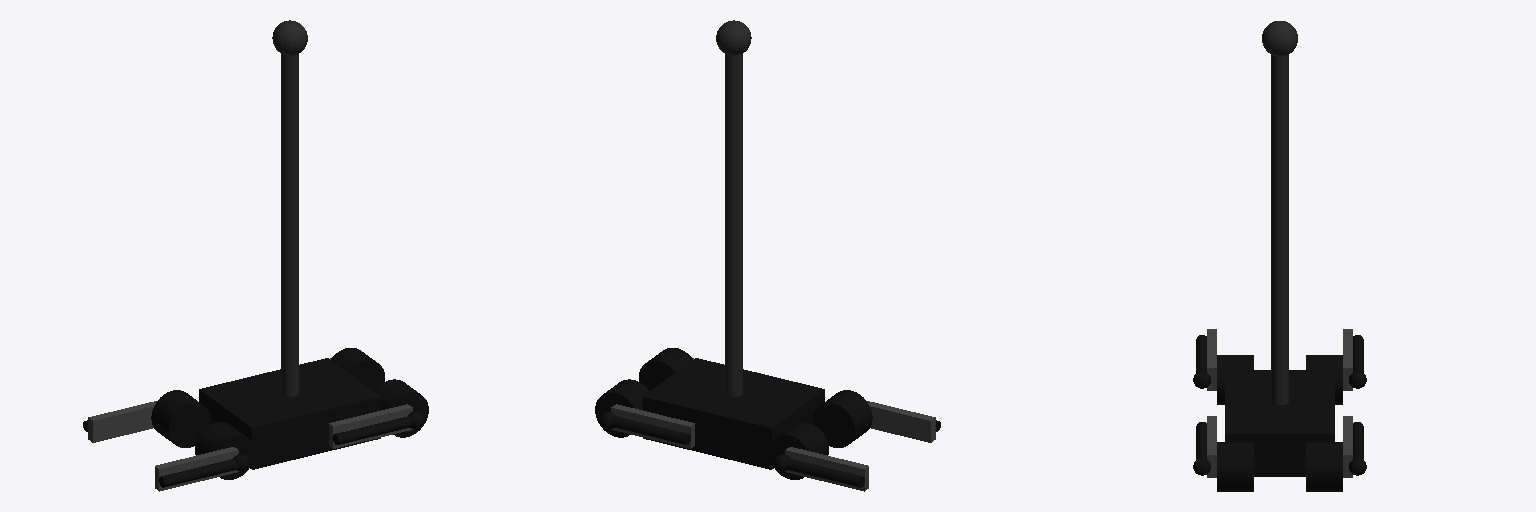
--- Facts derived from the render (not from the file) ---
3 views of the same robot in one strip: view 1: azimuth 30°, elevation 25°; view 2: azimuth 150°, elevation 25°; view 3: azimuth 270°, elevation 25° (orthographic).
Model spirit with 20 links and 19 joints (14 revolute, 5 fixed), rooted at body, posed every joint at zero.
Visible links, largest first — view 1: body, tail_link_1, hip1, upper1, hip3, hip2, upper2, upper3, hip0, tail_mass, lower2, lower3; view 2: body, tail_link_1, hip3, upper3, hip1, hip0, upper0, upper1, hip2, tail_mass, lower0, lower1; view 3: body, tail_link_1, hip0, hip2, tail_mass, hip1, hip3, upper0, upper2, upper1, upper3.
Link boxes in pixels (left/top/right/bottom): body: left=199, top=358, right=380, bottom=469; tail_link_1: left=281, top=54, right=298, bottom=396; hip1: left=151, top=390, right=210, bottom=447; upper1: left=88, top=401, right=156, bottom=442; hip3: left=195, top=422, right=254, bottom=479; hip2: left=374, top=379, right=428, bottom=437; upper2: left=329, top=404, right=412, bottom=448; upper3: left=155, top=447, right=238, bottom=491; hip0: left=331, top=348, right=384, bottom=390; tail_mass: left=272, top=20, right=307, bottom=55; lower2: left=333, top=416, right=411, bottom=444; lower3: left=159, top=459, right=237, bottom=487; body: left=643, top=358, right=824, bottom=469; tail_link_1: left=725, top=54, right=742, bottom=396; hip3: left=813, top=390, right=872, bottom=447; upper3: left=867, top=401, right=935, bottom=442; hip1: left=769, top=422, right=828, bottom=479; hip0: left=595, top=379, right=649, bottom=437; upper0: left=611, top=404, right=694, bottom=448; upper1: left=785, top=447, right=868, bottom=491; hip2: left=639, top=348, right=692, bottom=390; tail_mass: left=716, top=20, right=751, bottom=55; lower0: left=612, top=416, right=690, bottom=444; lower1: left=786, top=459, right=864, bottom=487; body: left=1225, top=370, right=1334, bottom=476; tail_link_1: left=1271, top=55, right=1288, bottom=405; hip0: left=1306, top=442, right=1342, bottom=491; hip2: left=1217, top=442, right=1253, bottom=491; tail_mass: left=1262, top=21, right=1297, bottom=56; hip1: left=1306, top=355, right=1342, bottom=404; hip3: left=1217, top=355, right=1253, bottom=404; upper0: left=1343, top=416, right=1352, bottom=477; upper2: left=1207, top=416, right=1216, bottom=477; upper1: left=1343, top=329, right=1352, bottom=390; upper3: left=1207, top=329, right=1216, bottom=390.
Size in the robot's own frame: 0.7136 by 0.382 by 1.03 metres.
Geometry: primitives only (box / cylinder / sphere), no mesh files.

The robot description file, URDF, robot "spirit":
<?xml version="1.0" encoding="utf-8"?>
<!-- =================================================================================== -->
<!-- |    This document was autogenerated by xacro from spirit40_gaz.urdf.xacro        | -->
<!-- |    EDITING THIS FILE BY HAND IS NOT RECOMMENDED                                 | -->
<!-- =================================================================================== -->
<!--
 * Copyright (C) Ghost Robotics - All Rights Reserved
 * Unauthorized copying of this file, via any medium is strictly prohibited
 * Proprietary and confidential
 * Written by Avik De <[email redacted]> and Tom Jacobs <[email redacted]>
-->
<robot name="spirit">
  <!-- Define materials -->
  <material name="gray">
    <color rgba="0.2 0.2 0.2 1.0"/>
  </material>
  <material name="darkgray">
    <color rgba="0.1 0.1 0.1 1.0"/>
  </material>
  <material name="silver">
    <color rgba="0.3 0.3 0.3 1.0"/>
  </material>
  <material name="red">
    <color rgba="0.8 0.0 0.2 1.0"/>
  </material>
  <!-- Body -->
  <link name="body">
    <visual>
      <origin rpy="0 0 0" xyz="0 0 0"/>
      <geometry>
        <box size="0.335 0.24 0.104"/>
      </geometry>
      <material name="darkgray"/>
    </visual>
    <inertial>
      <mass value="7.388"/>
      <!-- Uniform box -->
      <!-- <inertia ixx="1/12*${bodyMass}*(${bodyWidth}*${bodyWidth} + ${bodyHeight}*${bodyHeight})"  ixy="0"  ixz="0" iyy="1/12*${bodyMass}*(${bodyLength}*${bodyLength} + ${bodyHeight}*${bodyHeight})" iyz="0" izz="1/12*${bodyMass}*(${bodyLength}*${bodyLength} + ${bodyWidth}*${bodyWidth})"/> -->
      <inertia ixx="0.0642434782" ixy="0" ixz="0" iyy="0.1284869565" iyz="0" izz="0.1284869565"/>
    </inertial>
    <!-- Just copy geometry for collision -->
    <collision>
      <origin rpy="0 0 0" xyz="0 0 0"/>
      <geometry>
        <box size="0.335 0.24 0.104"/>
      </geometry>
    </collision>
  </link>
  <gazebo reference="body">
    <gravity>true</gravity>
    <sensor name="imu_sensor" type="imu">
      <always_on>true</always_on>
      <visualize>true</visualize>
      <topic>__default_topic_</topic>
      <plugin filename="libgazebo_ros_imu_sensor.so" name="imu_plugin">
        <topicName>imu</topicName>
        <bodyName>body</bodyName>
        <updateRateHZ>500.0</updateRateHZ>
        <gaussianNoise>0.0</gaussianNoise>
        <xyzOffset>0 0 0</xyzOffset>
        <rpyOffset>0 0 0</rpyOffset>
        <frameName>body</frameName>
        <initialOrientationAsReference>true</initialOrientationAsReference>
      </plugin>
      <pose>0 0 0 0 0 0</pose>
    </sensor>
  </gazebo>
  <!-- Hip motor -->
  <link name="hip0">
    <visual>
      <origin rpy="1.5707963268 0 0" xyz="0.0 0.028 0"/>
      <geometry>
        <cylinder length="0.08" radius="0.055"/>
      </geometry>
      <material name="darkgray"/>
    </visual>
    <collision>
      <origin rpy="1.5707963268 0 0" xyz="0 0.028 0"/>
      <geometry>
        <cylinder length="0.08" radius="0.055"/>
      </geometry>
    </collision>
    <inertial>
      <mass value="0.575"/>
      <!-- <inertia ixx="1/12*${podMass}*${podLength}*${podLength} + 1/4*${podMass}*${podRadius}*${podRadius}"  ixy="0"  ixz="0" iyy="1/12*${podMass}*${podLength}*${podLength} + 1/4*${podMass}*${podRadius}*${podRadius}" iyz="0" izz="1/2*${podMass}*${podRadius}*$
				{podRadius}" /> -->
      <inertia ixx="0.00066963541" ixy="0" ixz="0" iyy="0.00066963541" iyz="0" izz="0.0008696875"/>
    </inertial>
  </link>
  <gazebo reference="hip0">
    <material>Gazebo/Gray</material>
  </gazebo>
  <!-- Abduction joint. Joint names are: 8 9 10 11 -->
  <joint name="8" type="revolute">
    <parent link="body"/>
    <child link="hip0"/>
    <axis xyz="1 0 0"/>
    <origin xyz="0.2263 0.07 0"/>
    <limit effort="40" lower="-0.707" upper="0.707" velocity="30"/>
    <dynamics damping="0.0" friction="0.0"/>
  </joint>
  <!-- Transmission elements required for Gazebo -->
  <transmission name="transmission_8">
    <type>transmission_interface/SimpleTransmission</type>
    <joint name="8">
      <hardwareInterface>hardware_interface/EffortJointInterface</hardwareInterface>
    </joint>
    <actuator name="motor_8">
      <hardwareInterface>EffortJointInterface</hardwareInterface>
      <mechanicalReduction>1</mechanicalReduction>
    </actuator>
  </transmission>
  <!-- Upper leg -->
  <link name="upper0">
    <visual>
      <origin rpy="0 0 0" xyz="-0.103 -0.022 0"/>
      <geometry>
        <box size="0.206 0.022 0.055"/>
      </geometry>
      <material name="silver"/>
    </visual>
    <collision>
      <origin rpy="0 0 0" xyz="-0.103 -0.022 0"/>
      <geometry>
        <box size="0.206 0.022 0.055"/>
      </geometry>
    </collision>
    <inertial>
      <origin rpy="0 0 0" xyz="-0.040 -0.041 0"/>
      <mass value="0.792"/>
      <inertia ixx="5e-03" ixy="0" ixz="0" iyy="0.0070" iyz="0" izz="0.0070"/>
    </inertial>
  </link>
  <gazebo reference="upper0">
    <material>Gazebo/Gray</material>
  </gazebo>
  <!-- Hip joint. (Motor to upper leg). Joint names are: 0 2 4 6 -->
  <joint name="0" type="revolute">
    <parent link="hip0"/>
    <child link="upper0"/>
    <axis xyz="0 -1 0"/>
    <origin xyz="0 0.10098 0"/>
    <!--  rpy="0 -0.3 0" -->
    <limit effort="40" lower="-6.28318530718" upper="6.28318530718" velocity="30"/>
    <dynamics damping="0.0" friction="0.0"/>
  </joint>
  <!-- Transmission elements required for Gazebo -->
  <transmission name="transmission_0">
    <type>transmission_interface/SimpleTransmission</type>
    <joint name="0">
      <hardwareInterface>hardware_interface/EffortJointInterface</hardwareInterface>
    </joint>
    <actuator name="motor_0">
      <hardwareInterface>EffortJointInterface</hardwareInterface>
      <mechanicalReduction>1</mechanicalReduction>
    </actuator>
  </transmission>
  <!-- Lower leg -->
  <link name="lower0">
    <visual>
      <origin rpy="0 1.5707963268 0" xyz="0.103 0 0"/>
      <geometry>
        <cylinder length="0.206" radius="0.013"/>
      </geometry>
      <material name="darkgray"/>
    </visual>
    <collision>
      <origin rpy="0 1.5707963268 0" xyz="0.103 0 0"/>
      <geometry>
        <cylinder length="0.206" radius="0.013"/>
      </geometry>
    </collision>
    <inertial>
      <origin rpy="0 0 0" xyz="0.092 0 0"/>
      <mass value="0.096"/>
      <inertia ixx="1.3e-05" ixy="0" ixz="0" iyy="0.00047" iyz="0" izz="0.00047"/>
    </inertial>
  </link>
  <gazebo reference="lower0">
    <material>Gazebo/Black</material>
  </gazebo>
  <!-- Knee joint. Joint names are: 1 3 5 7 -->
  <joint name="1" type="revolute">
    <parent link="upper0"/>
    <child link="lower0"/>
    <axis xyz="0 1 0"/>
    <origin xyz="-0.206 0 0"/>
    <!--rpy="0 0.5 0"-->
    <limit effort="40" lower="0" upper="3.14159265359" velocity="30"/>
    <dynamics damping="0.0" friction="0.0"/>
  </joint>
  <!-- Transmission elements required for Gazebo -->
  <transmission name="transmission_1">
    <type>transmission_interface/SimpleTransmission</type>
    <joint name="1">
      <hardwareInterface>hardware_interface/EffortJointInterface</hardwareInterface>
    </joint>
    <actuator name="motor_1">
      <hardwareInterface>EffortJointInterface</hardwareInterface>
      <mechanicalReduction>1</mechanicalReduction>
    </actuator>
  </transmission>
  <!-- Toe -->
  <link name="toe0">
    <contact>
      <friction_anchor/>
      <stiffness value="30000.0"/>
      <damping value="1000.0"/>
      <spinning_friction value="0.3"/>
      <lateral_friction value="50.0"/>
    </contact>
    <visual>
      <origin rpy="0 0 0" xyz="0 0 0"/>
      <geometry>
        <sphere radius="0.02"/>
      </geometry>
      <material name="darkgray"/>
    </visual>
    <collision>
      <origin rpy="0 0 0" xyz="0 0 0"/>
      <geometry>
        <sphere radius="0.02"/>
      </geometry>
      <surface>
        <friction>
          <ode>
            <mu>100000</mu>
            <mu2>100000</mu2>
          </ode>
        </friction>
        <contact>
          <ode>
            <kp>30000</kp>
            <kd>1000</kd>
          </ode>
        </contact>
      </surface>
    </collision>
    <inertial>
      <mass value="0.015"/>
      <inertia ixx="0.000025" ixy="0" ixz="0" iyy="0.000025" iyz="0" izz="0.000025"/>
      <!-- <inertia ixx="2/5*${toeMass}*${toeRadius}*${toeRadius}"  ixy="0"  ixz="0" iyy="2/5*${toeMass}*${toeRadius}*${toeRadius}" iyz="0" izz="2/5*${toeMass}*${toeRadius}*${toeRadius}" /> -->
    </inertial>
  </link>
  <gazebo reference="toe0">
    <material>Gazebo/DarkGray</material>
    <collision>
      <surface>
        <bounce>
          <restitution_coefficient>0</restitution_coefficient>
          <threshold>1e+06</threshold>
        </bounce>
        <friction>
          <torsional>
            <coefficient>0.3</coefficient>
          </torsional>
          <ode>
            <mu>100.0</mu>
            <mu2>50.0</mu2>
          </ode>
          <bullet>
            <rolling_friction>0.3</rolling_friction>
            <friction2>50.0</friction2>
          </bullet>
        </friction>
        <contact>
          <bullet>
            <kp>30000.0</kp>
            <kd>1000.0</kd>
          </bullet>
          <ode>
            <kp>30000</kp>
            <kd>1000</kd>
          </ode>
        </contact>
      </surface>
    </collision>
  </gazebo>
  <joint name="jtoe0" type="fixed">
    <parent link="lower0"/>
    <child link="toe0"/>
    <origin xyz="0.206 0 -0.0"/>
    <dynamics damping="0.0" friction="0.0"/>
  </joint>
  <!-- Hip motor -->
  <link name="hip1">
    <visual>
      <origin rpy="1.5707963268 0 0" xyz="-0.0 0.028 0"/>
      <geometry>
        <cylinder length="0.08" radius="0.055"/>
      </geometry>
      <material name="darkgray"/>
    </visual>
    <collision>
      <origin rpy="1.5707963268 0 0" xyz="0 0.028 0"/>
      <geometry>
        <cylinder length="0.08" radius="0.055"/>
      </geometry>
    </collision>
    <inertial>
      <mass value="0.575"/>
      <!-- <inertia ixx="1/12*${podMass}*${podLength}*${podLength} + 1/4*${podMass}*${podRadius}*${podRadius}"  ixy="0"  ixz="0" iyy="1/12*${podMass}*${podLength}*${podLength} + 1/4*${podMass}*${podRadius}*${podRadius}" iyz="0" izz="1/2*${podMass}*${podRadius}*$
				{podRadius}" /> -->
      <inertia ixx="0.00066963541" ixy="0" ixz="0" iyy="0.00066963541" iyz="0" izz="0.0008696875"/>
    </inertial>
  </link>
  <gazebo reference="hip1">
    <material>Gazebo/Gray</material>
  </gazebo>
  <!-- Abduction joint. Joint names are: 8 9 10 11 -->
  <joint name="9" type="revolute">
    <parent link="body"/>
    <child link="hip1"/>
    <axis xyz="1 0 0"/>
    <origin xyz="-0.2263 0.07 0"/>
    <limit effort="40" lower="-0.707" upper="0.707" velocity="30"/>
    <dynamics damping="0.0" friction="0.0"/>
  </joint>
  <!-- Transmission elements required for Gazebo -->
  <transmission name="transmission_9">
    <type>transmission_interface/SimpleTransmission</type>
    <joint name="9">
      <hardwareInterface>hardware_interface/EffortJointInterface</hardwareInterface>
    </joint>
    <actuator name="motor_9">
      <hardwareInterface>EffortJointInterface</hardwareInterface>
      <mechanicalReduction>1</mechanicalReduction>
    </actuator>
  </transmission>
  <!-- Upper leg -->
  <link name="upper1">
    <visual>
      <origin rpy="0 0 0" xyz="-0.103 -0.022 0"/>
      <geometry>
        <box size="0.206 0.022 0.055"/>
      </geometry>
      <material name="silver"/>
    </visual>
    <collision>
      <origin rpy="0 0 0" xyz="-0.103 -0.022 0"/>
      <geometry>
        <box size="0.206 0.022 0.055"/>
      </geometry>
    </collision>
    <inertial>
      <origin rpy="0 0 0" xyz="-0.040 -0.041 0"/>
      <mass value="0.792"/>
      <inertia ixx="5e-03" ixy="0" ixz="0" iyy="0.0070" iyz="0" izz="0.0070"/>
    </inertial>
  </link>
  <gazebo reference="upper1">
    <material>Gazebo/Gray</material>
  </gazebo>
  <!-- Hip joint. (Motor to upper leg). Joint names are: 0 2 4 6 -->
  <joint name="2" type="revolute">
    <parent link="hip1"/>
    <child link="upper1"/>
    <axis xyz="0 -1 0"/>
    <origin xyz="0 0.10098 0"/>
    <!--  rpy="0 -0.3 0" -->
    <limit effort="40" lower="-6.28318530718" upper="6.28318530718" velocity="30"/>
    <dynamics damping="0.0" friction="0.0"/>
  </joint>
  <!-- Transmission elements required for Gazebo -->
  <transmission name="transmission_2">
    <type>transmission_interface/SimpleTransmission</type>
    <joint name="2">
      <hardwareInterface>hardware_interface/EffortJointInterface</hardwareInterface>
    </joint>
    <actuator name="motor_2">
      <hardwareInterface>EffortJointInterface</hardwareInterface>
      <mechanicalReduction>1</mechanicalReduction>
    </actuator>
  </transmission>
  <!-- Lower leg -->
  <link name="lower1">
    <visual>
      <origin rpy="0 1.5707963268 0" xyz="0.103 0 0"/>
      <geometry>
        <cylinder length="0.206" radius="0.013"/>
      </geometry>
      <material name="darkgray"/>
    </visual>
    <collision>
      <origin rpy="0 1.5707963268 0" xyz="0.103 0 0"/>
      <geometry>
        <cylinder length="0.206" radius="0.013"/>
      </geometry>
    </collision>
    <inertial>
      <origin rpy="0 0 0" xyz="0.092 0 0"/>
      <mass value="0.096"/>
      <inertia ixx="1.3e-05" ixy="0" ixz="0" iyy="0.00047" iyz="0" izz="0.00047"/>
    </inertial>
  </link>
  <gazebo reference="lower1">
    <material>Gazebo/Black</material>
  </gazebo>
  <!-- Knee joint. Joint names are: 1 3 5 7 -->
  <joint name="3" type="revolute">
    <parent link="upper1"/>
    <child link="lower1"/>
    <axis xyz="0 1 0"/>
    <origin xyz="-0.206 0 0"/>
    <!--rpy="0 0.5 0"-->
    <limit effort="40" lower="0" upper="3.14159265359" velocity="30"/>
    <dynamics damping="0.0" friction="0.0"/>
  </joint>
  <!-- Transmission elements required for Gazebo -->
  <transmission name="transmission_3">
    <type>transmission_interface/SimpleTransmission</type>
    <joint name="3">
      <hardwareInterface>hardware_interface/EffortJointInterface</hardwareInterface>
    </joint>
    <actuator name="motor_3">
      <hardwareInterface>EffortJointInterface</hardwareInterface>
      <mechanicalReduction>1</mechanicalReduction>
    </actuator>
  </transmission>
  <!-- Toe -->
  <link name="toe1">
    <contact>
      <friction_anchor/>
      <stiffness value="30000.0"/>
      <damping value="1000.0"/>
      <spinning_friction value="0.3"/>
      <lateral_friction value="50.0"/>
    </contact>
    <visual>
      <origin rpy="0 0 0" xyz="0 0 0"/>
      <geometry>
        <sphere radius="0.02"/>
      </geometry>
      <material name="darkgray"/>
    </visual>
    <collision>
      <origin rpy="0 0 0" xyz="0 0 0"/>
      <geometry>
        <sphere radius="0.02"/>
      </geometry>
      <surface>
        <friction>
          <ode>
            <mu>100000</mu>
            <mu2>100000</mu2>
          </ode>
        </friction>
        <contact>
          <ode>
            <kp>30000</kp>
            <kd>1000</kd>
          </ode>
        </contact>
      </surface>
    </collision>
    <inertial>
      <mass value="0.015"/>
      <inertia ixx="0.000025" ixy="0" ixz="0" iyy="0.000025" iyz="0" izz="0.000025"/>
      <!-- <inertia ixx="2/5*${toeMass}*${toeRadius}*${toeRadius}"  ixy="0"  ixz="0" iyy="2/5*${toeMass}*${toeRadius}*${toeRadius}" iyz="0" izz="2/5*${toeMass}*${toeRadius}*${toeRadius}" /> -->
    </inertial>
  </link>
  <gazebo reference="toe1">
    <material>Gazebo/DarkGray</material>
    <collision>
      <surface>
        <bounce>
          <restitution_coefficient>0</restitution_coefficient>
          <threshold>1e+06</threshold>
        </bounce>
        <friction>
          <torsional>
            <coefficient>0.3</coefficient>
          </torsional>
          <ode>
            <mu>100.0</mu>
            <mu2>50.0</mu2>
          </ode>
          <bullet>
            <rolling_friction>0.3</rolling_friction>
            <friction2>50.0</friction2>
          </bullet>
        </friction>
        <contact>
          <bullet>
            <kp>30000.0</kp>
            <kd>1000.0</kd>
          </bullet>
          <ode>
            <kp>30000</kp>
            <kd>1000</kd>
          </ode>
        </contact>
      </surface>
    </collision>
  </gazebo>
  <joint name="jtoe1" type="fixed">
    <parent link="lower1"/>
    <child link="toe1"/>
    <origin xyz="0.206 0 -0.0"/>
    <dynamics damping="0.0" friction="0.0"/>
  </joint>
  <!-- Hip motor -->
  <link name="hip2">
    <visual>
      <origin rpy="1.5707963268 0 0" xyz="0.0 -0.028 0"/>
      <geometry>
        <cylinder length="0.08" radius="0.055"/>
      </geometry>
      <material name="darkgray"/>
    </visual>
    <collision>
      <origin rpy="1.5707963268 0 0" xyz="0 -0.028 0"/>
      <geometry>
        <cylinder length="0.08" radius="0.055"/>
      </geometry>
    </collision>
    <inertial>
      <mass value="0.575"/>
      <!-- <inertia ixx="1/12*${podMass}*${podLength}*${podLength} + 1/4*${podMass}*${podRadius}*${podRadius}"  ixy="0"  ixz="0" iyy="1/12*${podMass}*${podLength}*${podLength} + 1/4*${podMass}*${podRadius}*${podRadius}" iyz="0" izz="1/2*${podMass}*${podRadius}*$
				{podRadius}" /> -->
      <inertia ixx="0.00066963541" ixy="0" ixz="0" iyy="0.00066963541" iyz="0" izz="0.0008696875"/>
    </inertial>
  </link>
  <gazebo reference="hip2">
    <material>Gazebo/Gray</material>
  </gazebo>
  <!-- Abduction joint. Joint names are: 8 9 10 11 -->
  <joint name="10" type="revolute">
    <parent link="body"/>
    <child link="hip2"/>
    <axis xyz="1 0 0"/>
    <origin xyz="0.2263 -0.07 0"/>
    <limit effort="40" lower="-0.707" upper="0.707" velocity="30"/>
    <dynamics damping="0.0" friction="0.0"/>
  </joint>
  <!-- Transmission elements required for Gazebo -->
  <transmission name="transmission_10">
    <type>transmission_interface/SimpleTransmission</type>
    <joint name="10">
      <hardwareInterface>hardware_interface/EffortJointInterface</hardwareInterface>
    </joint>
    <actuator name="motor_10">
      <hardwareInterface>EffortJointInterface</hardwareInterface>
      <mechanicalReduction>1</mechanicalReduction>
    </actuator>
  </transmission>
  <!-- Upper leg -->
  <link name="upper2">
    <visual>
      <origin rpy="0 0 0" xyz="-0.103 0.022 0"/>
      <geometry>
        <box size="0.206 0.022 0.055"/>
      </geometry>
      <material name="silver"/>
    </visual>
    <collision>
      <origin rpy="0 0 0" xyz="-0.103 0.022 0"/>
      <geometry>
        <box size="0.206 0.022 0.055"/>
      </geometry>
    </collision>
    <inertial>
      <origin rpy="0 0 0" xyz="-0.040 0.041 0"/>
      <mass value="0.792"/>
      <inertia ixx="5e-03" ixy="0" ixz="0" iyy="0.0070" iyz="0" izz="0.0070"/>
    </inertial>
  </link>
  <gazebo reference="upper2">
    <material>Gazebo/Gray</material>
  </gazebo>
  <!-- Hip joint. (Motor to upper leg). Joint names are: 0 2 4 6 -->
  <joint name="4" type="revolute">
    <parent link="hip2"/>
    <child link="upper2"/>
    <axis xyz="0 -1 0"/>
    <origin xyz="0 -0.10098 0"/>
    <!--  rpy="0 -0.3 0" -->
    <limit effort="40" lower="-6.28318530718" upper="6.28318530718" velocity="30"/>
    <dynamics damping="0.0" friction="0.0"/>
  </joint>
  <!-- Transmission elements required for Gazebo -->
  <transmission name="transmission_4">
    <type>transmission_interface/SimpleTransmission</type>
    <joint name="4">
      <hardwareInterface>hardware_interface/EffortJointInterface</hardwareInterface>
    </joint>
    <actuator name="motor_4">
      <hardwareInterface>EffortJointInterface</hardwareInterface>
      <mechanicalReduction>1</mechanicalReduction>
    </actuator>
  </transmission>
  <!-- Lower leg -->
  <link name="lower2">
    <visual>
      <origin rpy="0 1.5707963268 0" xyz="0.103 0 0"/>
      <geometry>
        <cylinder length="0.206" radius="0.013"/>
      </geometry>
      <material name="darkgray"/>
    </visual>
    <collision>
      <origin rpy="0 1.5707963268 0" xyz="0.103 0 0"/>
      <geometry>
        <cylinder length="0.206" radius="0.013"/>
      </geometry>
    </collision>
    <inertial>
      <origin rpy="0 0 0" xyz="0.092 0 0"/>
      <mass value="0.096"/>
      <inertia ixx="1.3e-05" ixy="0" ixz="0" iyy="0.00047" iyz="0" izz="0.00047"/>
    </inertial>
  </link>
  <gazebo reference="lower2">
    <material>Gazebo/Black</material>
  </gazebo>
  <!-- Knee joint. Joint names are: 1 3 5 7 -->
  <joint name="5" type="revolute">
    <parent link="upper2"/>
    <child link="lower2"/>
    <axis xyz="0 1 0"/>
    <origin xyz="-0.206 0 0"/>
    <!--rpy="0 0.5 0"-->
    <limit effort="40" lower="0" upper="3.14159265359" velocity="30"/>
    <dynamics damping="0.0" friction="0.0"/>
  </joint>
  <!-- Transmission elements required for Gazebo -->
  <transmission name="transmission_5">
    <type>transmission_interface/SimpleTransmission</type>
    <joint name="5">
      <hardwareInterface>hardware_interface/EffortJointInterface</hardwareInterface>
    </joint>
    <actuator name="motor_5">
      <hardwareInterface>EffortJointInterface</hardwareInterface>
      <mechanicalReduction>1</mechanicalReduction>
    </actuator>
  </transmission>
  <!-- Toe -->
  <link name="toe2">
    <contact>
      <friction_anchor/>
      <stiffness value="30000.0"/>
      <damping value="1000.0"/>
      <spinning_friction value="0.3"/>
      <lateral_friction value="50.0"/>
    </contact>
    <visual>
      <origin rpy="0 0 0" xyz="0 0 0"/>
      <geometry>
        <sphere radius="0.02"/>
      </geometry>
      <material name="darkgray"/>
    </visual>
    <collision>
      <origin rpy="0 0 0" xyz="0 0 0"/>
      <geometry>
        <sphere radius="0.02"/>
      </geometry>
      <surface>
        <friction>
          <ode>
            <mu>100000</mu>
            <mu2>100000</mu2>
          </ode>
        </friction>
        <contact>
          <ode>
            <kp>30000</kp>
            <kd>1000</kd>
          </ode>
        </contact>
      </surface>
    </collision>
    <inertial>
      <mass value="0.015"/>
      <inertia ixx="0.000025" ixy="0" ixz="0" iyy="0.000025" iyz="0" izz="0.000025"/>
      <!-- <inertia ixx="2/5*${toeMass}*${toeRadius}*${toeRadius}"  ixy="0"  ixz="0" iyy="2/5*${toeMass}*${toeRadius}*${toeRadius}" iyz="0" izz="2/5*${toeMass}*${toeRadius}*${toeRadius}" /> -->
    </inertial>
  </link>
  <gazebo reference="toe2">
    <material>Gazebo/DarkGray</material>
    <collision>
      <surface>
        <bounce>
          <restitution_coefficient>0</restitution_coefficient>
          <threshold>1e+06</threshold>
        </bounce>
        <friction>
          <torsional>
            <coefficient>0.3</coefficient>
          </torsional>
          <ode>
            <mu>100.0</mu>
            <mu2>50.0</mu2>
          </ode>
          <bullet>
            <rolling_friction>0.3</rolling_friction>
            <friction2>50.0</friction2>
          </bullet>
        </friction>
        <contact>
          <bullet>
            <kp>30000.0</kp>
            <kd>1000.0</kd>
          </bullet>
          <ode>
            <kp>30000</kp>
            <kd>1000</kd>
          </ode>
        </contact>
      </surface>
    </collision>
  </gazebo>
  <joint name="jtoe2" type="fixed">
    <parent link="lower2"/>
    <child link="toe2"/>
    <origin xyz="0.206 0 -0.0"/>
    <dynamics damping="0.0" friction="0.0"/>
  </joint>
  <!-- Hip motor -->
  <link name="hip3">
    <visual>
      <origin rpy="1.5707963268 0 0" xyz="-0.0 -0.028 0"/>
      <geometry>
        <cylinder length="0.08" radius="0.055"/>
      </geometry>
      <material name="darkgray"/>
    </visual>
    <collision>
      <origin rpy="1.5707963268 0 0" xyz="0 -0.028 0"/>
      <geometry>
        <cylinder length="0.08" radius="0.055"/>
      </geometry>
    </collision>
    <inertial>
      <mass value="0.575"/>
      <!-- <inertia ixx="1/12*${podMass}*${podLength}*${podLength} + 1/4*${podMass}*${podRadius}*${podRadius}"  ixy="0"  ixz="0" iyy="1/12*${podMass}*${podLength}*${podLength} + 1/4*${podMass}*${podRadius}*${podRadius}" iyz="0" izz="1/2*${podMass}*${podRadius}*$
				{podRadius}" /> -->
      <inertia ixx="0.00066963541" ixy="0" ixz="0" iyy="0.00066963541" iyz="0" izz="0.0008696875"/>
    </inertial>
  </link>
  <gazebo reference="hip3">
    <material>Gazebo/Gray</material>
  </gazebo>
  <!-- Abduction joint. Joint names are: 8 9 10 11 -->
  <joint name="11" type="revolute">
    <parent link="body"/>
    <child link="hip3"/>
    <axis xyz="1 0 0"/>
    <origin xyz="-0.2263 -0.07 0"/>
    <limit effort="40" lower="-0.707" upper="0.707" velocity="30"/>
    <dynamics damping="0.0" friction="0.0"/>
  </joint>
  <!-- Transmission elements required for Gazebo -->
  <transmission name="transmission_11">
    <type>transmission_interface/SimpleTransmission</type>
    <joint name="11">
      <hardwareInterface>hardware_interface/EffortJointInterface</hardwareInterface>
    </joint>
    <actuator name="motor_11">
      <hardwareInterface>EffortJointInterface</hardwareInterface>
      <mechanicalReduction>1</mechanicalReduction>
    </actuator>
  </transmission>
  <!-- Upper leg -->
  <link name="upper3">
    <visual>
      <origin rpy="0 0 0" xyz="-0.103 0.022 0"/>
      <geometry>
        <box size="0.206 0.022 0.055"/>
      </geometry>
      <material name="silver"/>
    </visual>
    <collision>
      <origin rpy="0 0 0" xyz="-0.103 0.022 0"/>
      <geometry>
        <box size="0.206 0.022 0.055"/>
      </geometry>
    </collision>
    <inertial>
      <origin rpy="0 0 0" xyz="-0.040 0.041 0"/>
      <mass value="0.792"/>
      <inertia ixx="5e-03" ixy="0" ixz="0" iyy="0.0070" iyz="0" izz="0.0070"/>
    </inertial>
  </link>
  <gazebo reference="upper3">
    <material>Gazebo/Gray</material>
  </gazebo>
  <!-- Hip joint. (Motor to upper leg). Joint names are: 0 2 4 6 -->
  <joint name="6" type="revolute">
    <parent link="hip3"/>
    <child link="upper3"/>
    <axis xyz="0 -1 0"/>
    <origin xyz="0 -0.10098 0"/>
    <!--  rpy="0 -0.3 0" -->
    <limit effort="40" lower="-6.28318530718" upper="6.28318530718" velocity="30"/>
    <dynamics damping="0.0" friction="0.0"/>
  </joint>
  <!-- Transmission elements required for Gazebo -->
  <transmission name="transmission_6">
    <type>transmission_interface/SimpleTransmission</type>
    <joint name="6">
      <hardwareInterface>hardware_interface/EffortJointInterface</hardwareInterface>
    </joint>
    <actuator name="motor_6">
      <hardwareInterface>EffortJointInterface</hardwareInterface>
      <mechanicalReduction>1</mechanicalReduction>
    </actuator>
  </transmission>
  <!-- Lower leg -->
  <link name="lower3">
    <visual>
      <origin rpy="0 1.5707963268 0" xyz="0.103 0 0"/>
      <geometry>
        <cylinder length="0.206" radius="0.013"/>
      </geometry>
      <material name="darkgray"/>
    </visual>
    <collision>
      <origin rpy="0 1.5707963268 0" xyz="0.103 0 0"/>
      <geometry>
        <cylinder length="0.206" radius="0.013"/>
      </geometry>
    </collision>
    <inertial>
      <origin rpy="0 0 0" xyz="0.092 0 0"/>
      <mass value="0.096"/>
      <inertia ixx="1.3e-05" ixy="0" ixz="0" iyy="0.00047" iyz="0" izz="0.00047"/>
    </inertial>
  </link>
  <gazebo reference="lower3">
    <material>Gazebo/Black</material>
  </gazebo>
  <!-- Knee joint. Joint names are: 1 3 5 7 -->
  <joint name="7" type="revolute">
    <parent link="upper3"/>
    <child link="lower3"/>
    <axis xyz="0 1 0"/>
    <origin xyz="-0.206 0 0"/>
    <!--rpy="0 0.5 0"-->
    <limit effort="40" lower="0" upper="3.14159265359" velocity="30"/>
    <dynamics damping="0.0" friction="0.0"/>
  </joint>
  <!-- Transmission elements required for Gazebo -->
  <transmission name="transmission_7">
    <type>transmission_interface/SimpleTransmission</type>
    <joint name="7">
      <hardwareInterface>hardware_interface/EffortJointInterface</hardwareInterface>
    </joint>
    <actuator name="motor_7">
      <hardwareInterface>EffortJointInterface</hardwareInterface>
      <mechanicalReduction>1</mechanicalReduction>
    </actuator>
  </transmission>
  <!-- Toe -->
  <link name="toe3">
    <contact>
      <friction_anchor/>
      <stiffness value="30000.0"/>
      <damping value="1000.0"/>
      <spinning_friction value="0.3"/>
      <lateral_friction value="50.0"/>
    </contact>
    <visual>
      <origin rpy="0 0 0" xyz="0 0 0"/>
      <geometry>
        <sphere radius="0.02"/>
      </geometry>
      <material name="darkgray"/>
    </visual>
    <collision>
      <origin rpy="0 0 0" xyz="0 0 0"/>
      <geometry>
        <sphere radius="0.02"/>
      </geometry>
      <surface>
        <friction>
          <ode>
            <mu>100000</mu>
            <mu2>100000</mu2>
          </ode>
        </friction>
        <contact>
          <ode>
            <kp>30000</kp>
            <kd>1000</kd>
          </ode>
        </contact>
      </surface>
    </collision>
    <inertial>
      <mass value="0.015"/>
      <inertia ixx="0.000025" ixy="0" ixz="0" iyy="0.000025" iyz="0" izz="0.000025"/>
      <!-- <inertia ixx="2/5*${toeMass}*${toeRadius}*${toeRadius}"  ixy="0"  ixz="0" iyy="2/5*${toeMass}*${toeRadius}*${toeRadius}" iyz="0" izz="2/5*${toeMass}*${toeRadius}*${toeRadius}" /> -->
    </inertial>
  </link>
  <gazebo reference="toe3">
    <material>Gazebo/DarkGray</material>
    <collision>
      <surface>
        <bounce>
          <restitution_coefficient>0</restitution_coefficient>
          <threshold>1e+06</threshold>
        </bounce>
        <friction>
          <torsional>
            <coefficient>0.3</coefficient>
          </torsional>
          <ode>
            <mu>100.0</mu>
            <mu2>50.0</mu2>
          </ode>
          <bullet>
            <rolling_friction>0.3</rolling_friction>
            <friction2>50.0</friction2>
          </bullet>
        </friction>
        <contact>
          <bullet>
            <kp>30000.0</kp>
            <kd>1000.0</kd>
          </bullet>
          <ode>
            <kp>30000</kp>
            <kd>1000</kd>
          </ode>
        </contact>
      </surface>
    </collision>
  </gazebo>
  <joint name="jtoe3" type="fixed">
    <parent link="lower3"/>
    <child link="toe3"/>
    <origin xyz="0.206 0 -0.0"/>
    <dynamics damping="0.0" friction="0.0"/>
  </joint>

  <!-- Tail link -->
  <link name="tail_link_0">
    <visual>
      <origin rpy="0 0 0" xyz="0 0 0"/>
      <geometry>
        <sphere radius="0.02"/>
      </geometry>
      <material name="gray"/>
    </visual>
    <inertial>
      <mass value="1e-03"/>
      <inertia ixx="1e-04" ixy="0" ixz="0" iyy="1e-04" iyz="0" izz="1e-04"/>
    </inertial>
  </link>
  <gazebo reference="tail_link_0">
    <material>Gazebo/Gray</material>
  </gazebo>
  <link name="tail_link_1">
    <visual>
      <origin rpy="0 0 0" xyz="0 0 0.4408"/>
      <geometry>
        <cylinder length="0.8816" radius="0.02"/>
      </geometry>
      <material name="gray"/>
    </visual>
    <inertial>
      <mass value="1e-03"/>
      <inertia ixx="1e-04" ixy="0" ixz="0" iyy="1e-04" iyz="0" izz="1e-04"/>
    </inertial>
  </link>
  <gazebo reference="tail_link_1">
    <material>Gazebo/Gray</material>
  </gazebo>
  <link name="tail_mass">
    <visual>
      <origin rpy="0 0 0" xyz="0 0 0"/>
      <geometry>
        <sphere radius="0.04"/>
      </geometry>
      <material name="gray"/>
    </visual>
    <inertial>
      <mass value="0.2764"/>
      <inertia ixx="2.764e-04" ixy="0" ixz="0" iyy="2.764e-04" iyz="0" izz="2.764e-04"/>
    </inertial>
  </link>
  <gazebo reference="tail_mass">
    <material>Gazebo/Gray</material>
  </gazebo>

  <!-- Tail joint -->
  <joint name="body_tail_joint_0" type="revolute">
    <parent link="body"/>
    <child link="tail_link_0"/>
    <axis xyz="1 0 0"/>
    <origin xyz="0 0 0.052"/>
    <limit effort="35" lower="-1.57" upper="1.57" velocity="1000000"/>
    <dynamics damping="0.0" friction="0.0"/>
  </joint>
  <!-- Transmission elements required for Gazebo -->
  <transmission name="transmission_body_tail_joint_0">
    <type>transmission_interface/SimpleTransmission</type>
    <joint name="body_tail_joint_0">
      <hardwareInterface>hardware_interface/EffortJointInterface</hardwareInterface>
    </joint>
    <actuator name="motor_body_tail_joint_0">
      <hardwareInterface>EffortJointInterface</hardwareInterface>
      <mechanicalReduction>1</mechanicalReduction>
    </actuator>
  </transmission>
  <joint name="body_tail_joint_1" type="revolute">
    <parent link="tail_link_0"/>
    <child link="tail_link_1"/>
    <axis xyz="0 1 0"/>
    <origin xyz="0 0 0"/>
    <limit effort="35" lower="-1.57" upper="1.57" velocity="1000000"/>
    <dynamics damping="0.0" friction="0.0"/>
  </joint>
  <!-- Transmission elements required for Gazebo -->
  <transmission name="transmission_body_tail_joint_1">
    <type>transmission_interface/SimpleTransmission</type>
    <joint name="body_tail_joint_1">
      <hardwareInterface>hardware_interface/EffortJointInterface</hardwareInterface>
    </joint>
    <actuator name="motor_body_tail_joint_1">
      <hardwareInterface>EffortJointInterface</hardwareInterface>
      <mechanicalReduction>1</mechanicalReduction>
    </actuator>
  </transmission>
  <joint name="tail_link_mass_joint" type="fixed">
    <parent link="tail_link_1"/>
    <child link="tail_mass"/>
    <origin xyz="0 0 0.8816"/>
    <dynamics damping="0.0" friction="0.0"/>
  </joint>
</robot>
